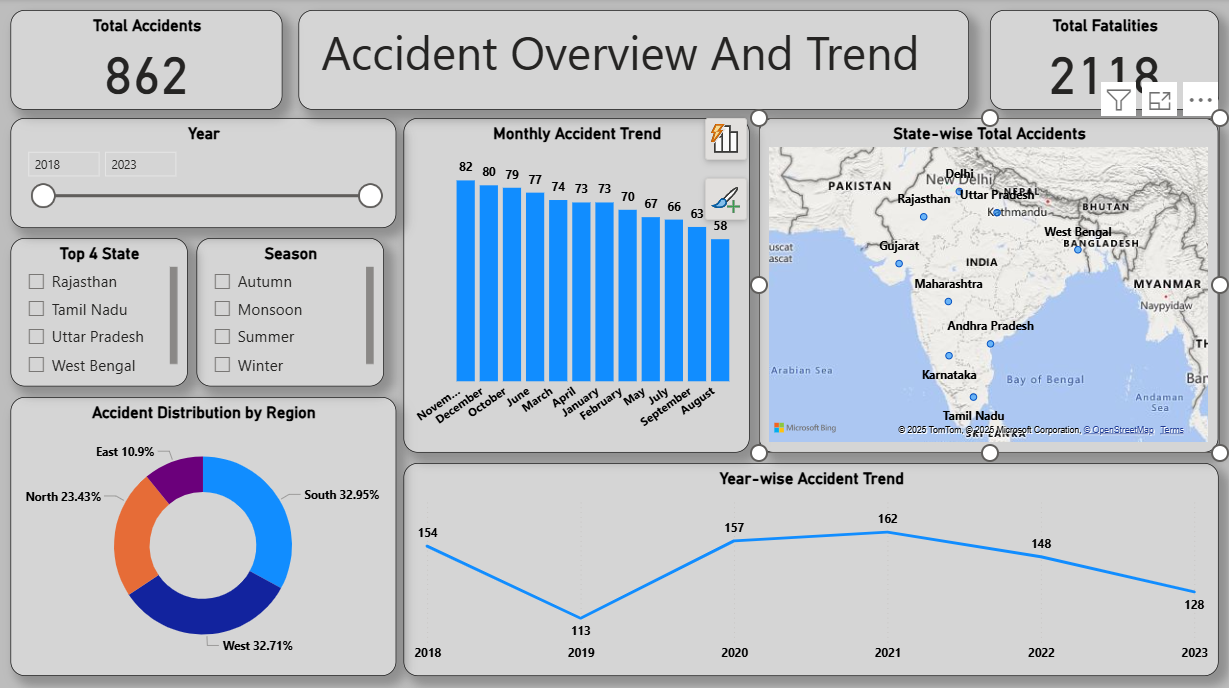

The page's visual inventory and layout, read from the dashboard file:
{"tool":"powerbi","page":{"name":"Page 2","canvas":[1280,720],"ordinal":1},"visuals":[{"type":"map","title":"State-wise Total Accidents\n","fields":{"Category":["accident_dashboard_final.State Name"],"Series":["accident_dashboard_final.Total Accidents"]},"box":[791.4,124.3,479,348.7],"z":0},{"type":"lineChart","title":"Year-wise Accident Trend\n","fields":{"Category":["accident_dashboard_final.Year"],"Y":["Sum(accident_dashboard_final.Accident Count)"]},"box":[421,483.8,849.3,222],"z":1000},{"type":"donutChart","title":"Accident Distribution by Region","fields":{"Category":["accident_dashboard_final.Region"],"Y":["Sum(accident_dashboard_final.Accident Count)"]},"box":[10.9,415,401.7,290.8],"z":2000},{"type":"columnChart","title":"Monthly Accident Trend","fields":{"Category":["accident_dashboard_final.Month"],"Y":["Sum(accident_dashboard_final.Total Accidents)"]},"box":[421,124.3,360.7,348.7],"z":3000},{"type":"slicer","title":"Season","fields":{"Values":["accident_dashboard_final.Season"]},"box":[205.1,249.7,195.4,154.4],"z":4000},{"type":"card","title":"Total Accidents","fields":{"Values":["Sum(accident_dashboard_final.Total Accidents)"]},"box":[10.9,12.1,283.5,103.8],"z":5000},{"type":"card","title":"Total Fatalities\n","fields":{"Values":["Sum(accident_dashboard_final.Number of Fatalities)"]},"box":[1031.5,12.1,238.9,103.8],"z":6000},{"type":"slicer","title":"Top 4  State","fields":{"Values":["accident_dashboard_final.State Name"]},"box":[10.9,249.7,184.6,154.4],"z":7000},{"type":"slicer","title":"Year","fields":{"Values":["accident_dashboard_final.Year"]},"box":[10.9,124.3,401.7,114.6],"z":8000},{"type":"textbox","box":[311.3,12.1,698.5,103.8],"z":9000}]}

Visuals, with their boxes in screenshot pixels (x1, y1, x2, y2), scaled from the page's 1280x720 canvas onto the 1229x688 screenshot:
"State-wise Total Accidents
" map: x1=760 y1=119 x2=1220 y2=452
"Year-wise Accident Trend
" lineChart: x1=404 y1=462 x2=1220 y2=674
"Accident Distribution by Region" donutChart: x1=10 y1=397 x2=396 y2=674
"Monthly Accident Trend" columnChart: x1=404 y1=119 x2=751 y2=452
"Season" slicer: x1=197 y1=239 x2=385 y2=386
"Total Accidents" card: x1=10 y1=12 x2=283 y2=111
"Total Fatalities
" card: x1=990 y1=12 x2=1220 y2=111
"Top 4  State" slicer: x1=10 y1=239 x2=188 y2=386
"Year" slicer: x1=10 y1=119 x2=396 y2=228
textbox: x1=299 y1=12 x2=970 y2=111
